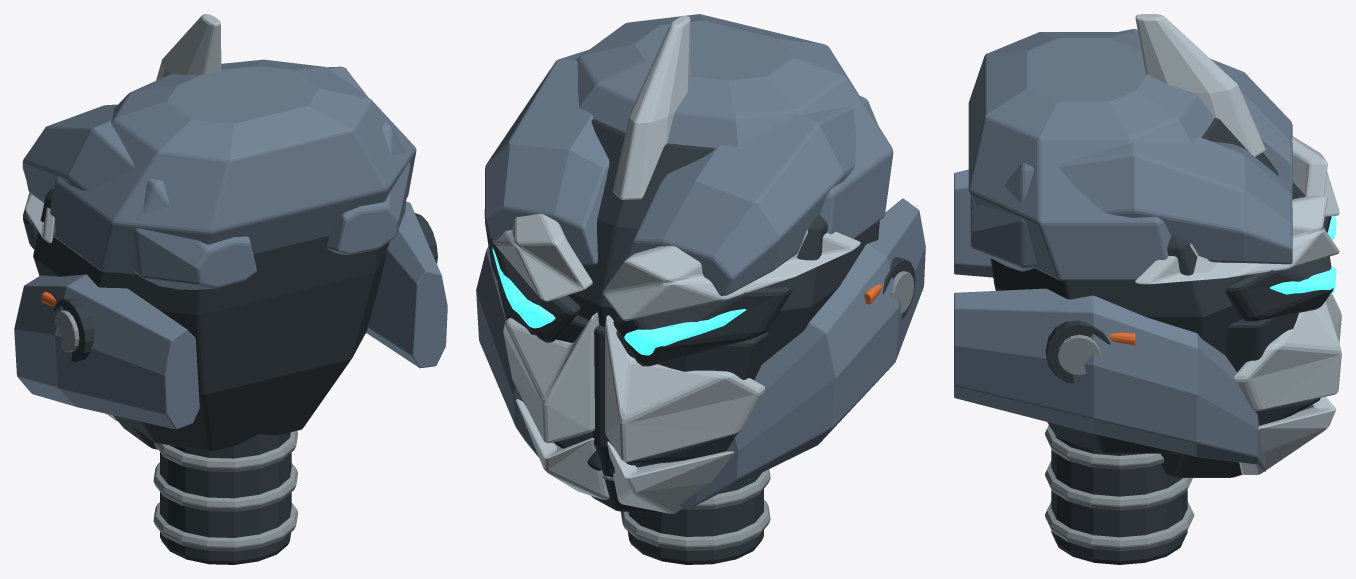
The picture shows the model from 3 angles, left to right: view 1: azimuth 30°, elevation 25°; view 2: azimuth 150°, elevation 25°; view 3: azimuth 270°, elevation 25°; orthographic projection. The views are drawn at different scales.
Visible parts, largest first — view 1: Head_hero; view 2: Head_hero; view 3: Head_hero.
Boxes of the visible parts, <box> form: Head_hero: <box>14,14,447,564</box>; Head_hero: <box>476,14,925,564</box>; Head_hero: <box>954,14,1341,564</box>.
Size of the model in its own units: 0.4646 by 0.6166 by 0.4143.
